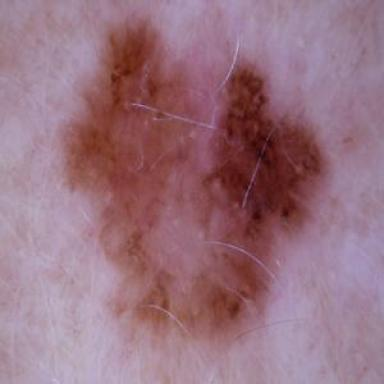Melanoma: (61, 23, 324, 336)
